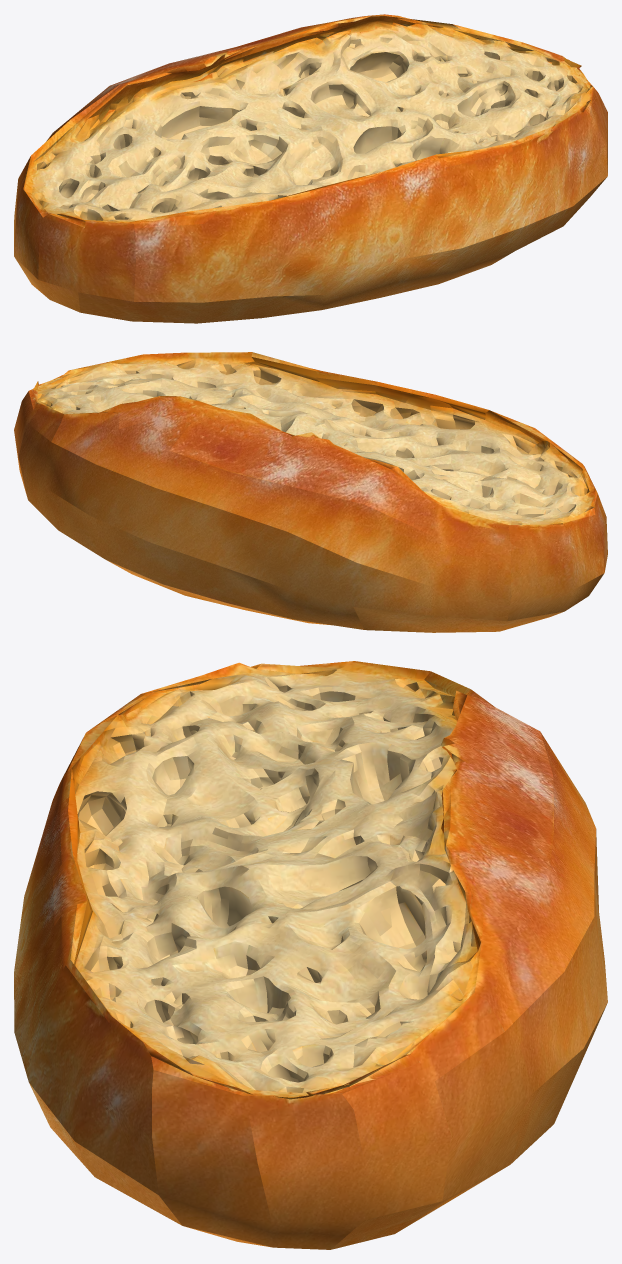
File: ekmek-dilimi.glb
The picture shows the model from 3 angles, top to bottom: view 1: azimuth 30°, elevation 25°; view 2: azimuth 150°, elevation 25°; view 3: azimuth 270°, elevation 25°; orthographic projection. The views are drawn at different scales.
Visible parts, largest first — view 1: Mesh0; view 2: Mesh0; view 3: Mesh0.
Boxes of the visible parts, bbox=[...] form: Mesh0: bbox=[14, 14, 607, 323]; Mesh0: bbox=[14, 352, 607, 632]; Mesh0: bbox=[14, 661, 607, 1249].
Bounding box in the file's own units: 1.88 × 0.5858 × 1.04.
Materials: 1 (1 with a texture image).
